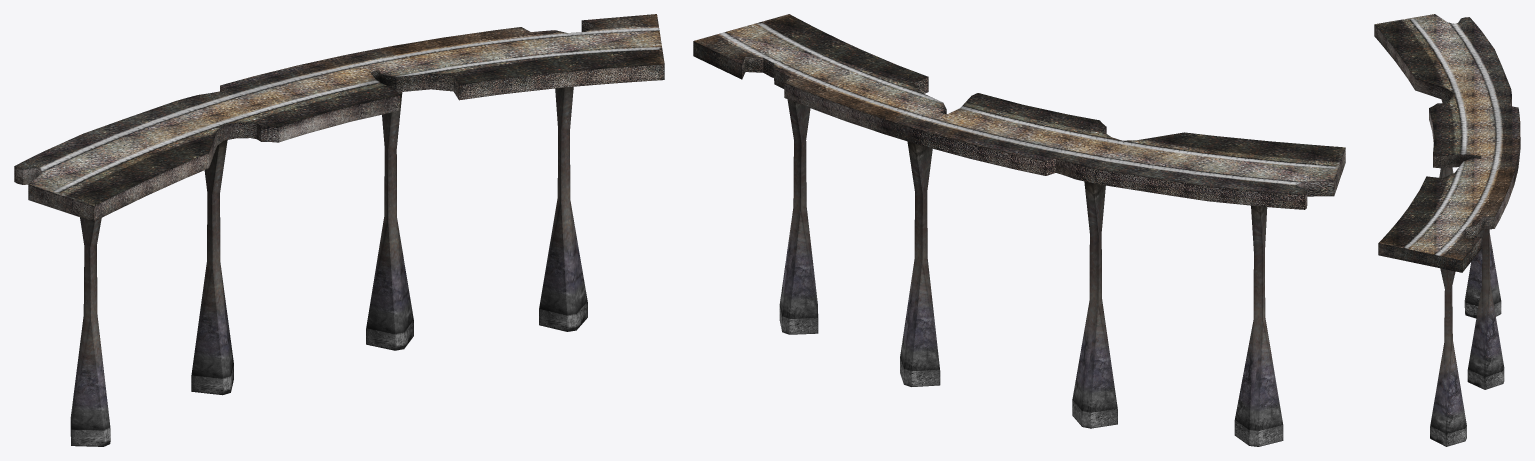
File: mad_drive_escombros_carretera.dae
3 renders of one model, left to right at view 1: azimuth 30°, elevation 25°; view 2: azimuth 150°, elevation 25°; view 3: azimuth 270°, elevation 25°, orthographic. The views are drawn at different scales.
Parts seen in each view (by area): view 1: mad_drive_escombros_carretera; view 2: mad_drive_escombros_carretera; view 3: mad_drive_escombros_carretera.
Boxes of the visible parts, x1,y1,x2,y2 form: mad_drive_escombros_carretera: (14, 14, 664, 446); mad_drive_escombros_carretera: (693, 14, 1345, 446); mad_drive_escombros_carretera: (1374, 14, 1520, 446).
Size of the model in its own units: 62.89 by 25.74 by 15.73.
1 material, 1 textured.
